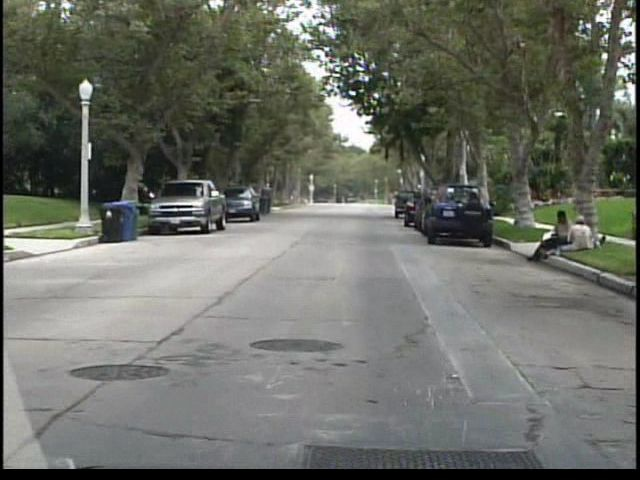person: (525, 207, 574, 262), (562, 208, 593, 247)
